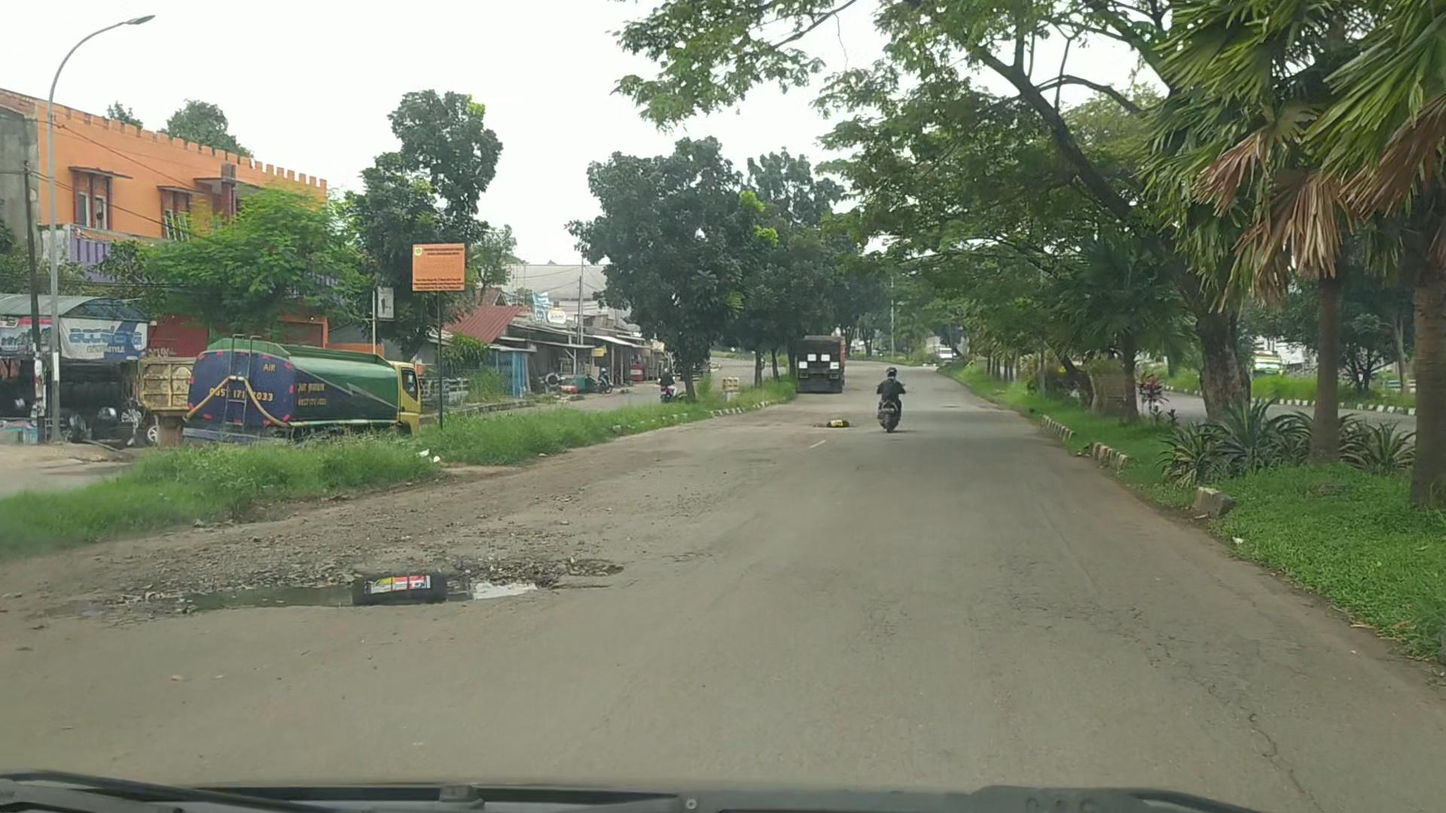pothole: (119, 558, 610, 614)
